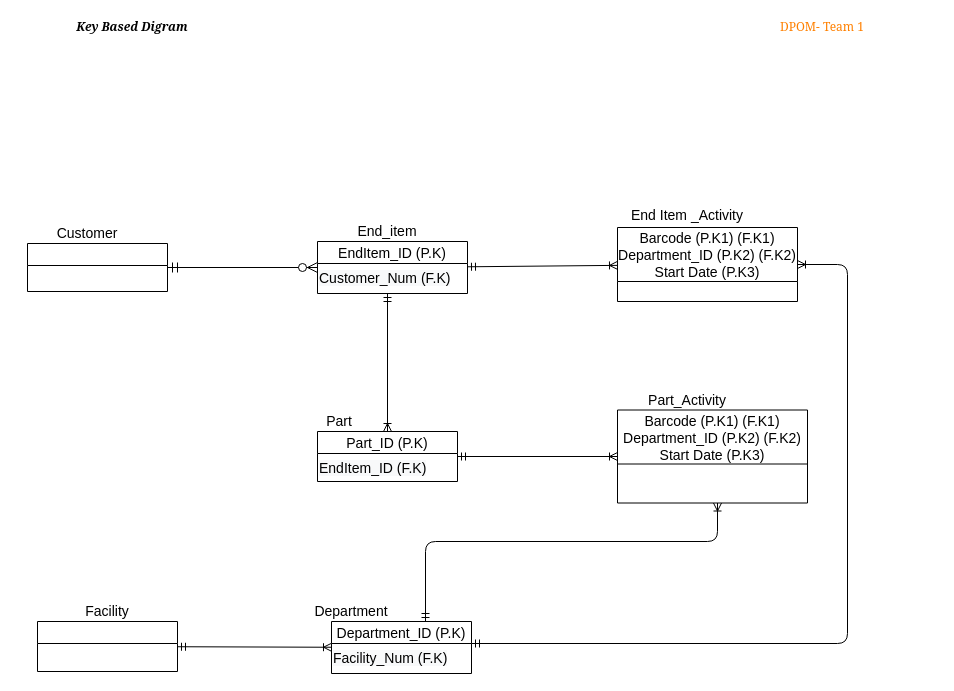
The diagram is 954 pixels wide and 691 high, and some of its shapes have lost their labels. The box of each missing label's shape, as (x1, y1, x2, y2) in pixels:
Customer_Num (P.K): (26, 242, 168, 292)
Facility_Num (P.K): (36, 620, 178, 672)
